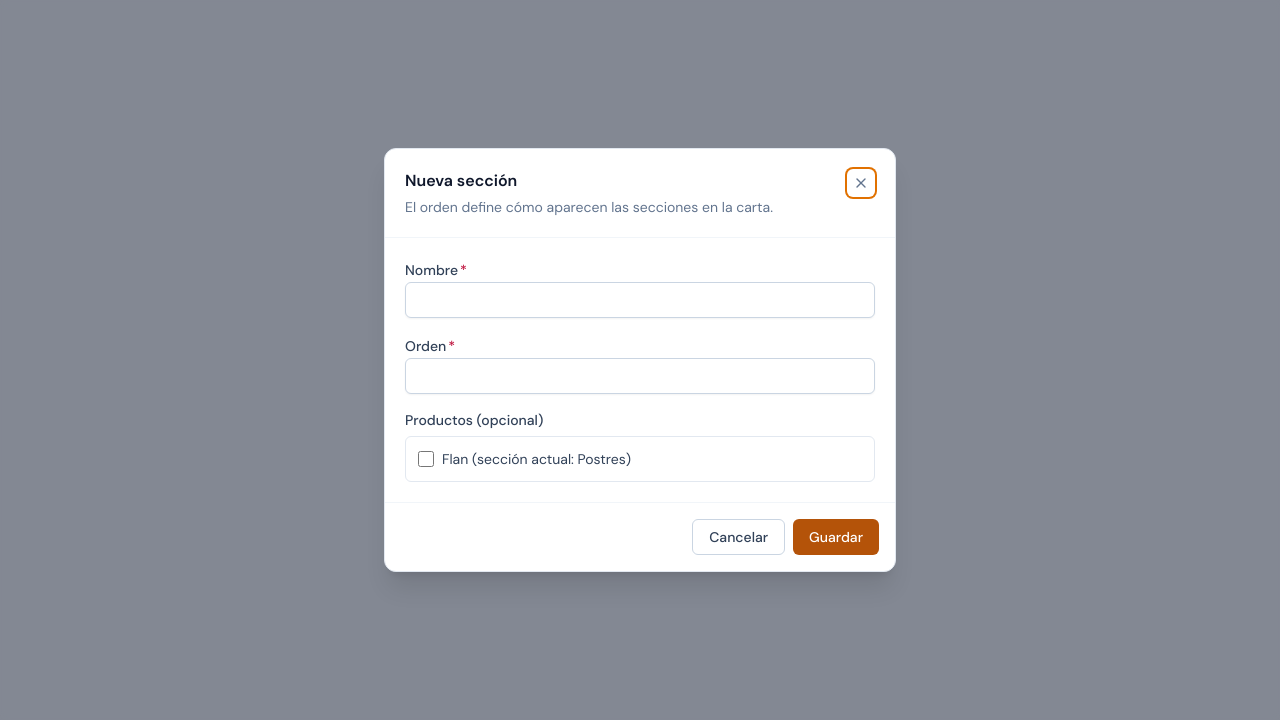
Test case: SeccionFormDialog: errores del servidor › muestra el 409 de posición ocupada bajo el campo orden (CA 6)
This screenshot has width=1280, height=720.
In the field labelled "Nombre*": coordinates (640, 300) [405, 282, 875, 318], type "Entradas"
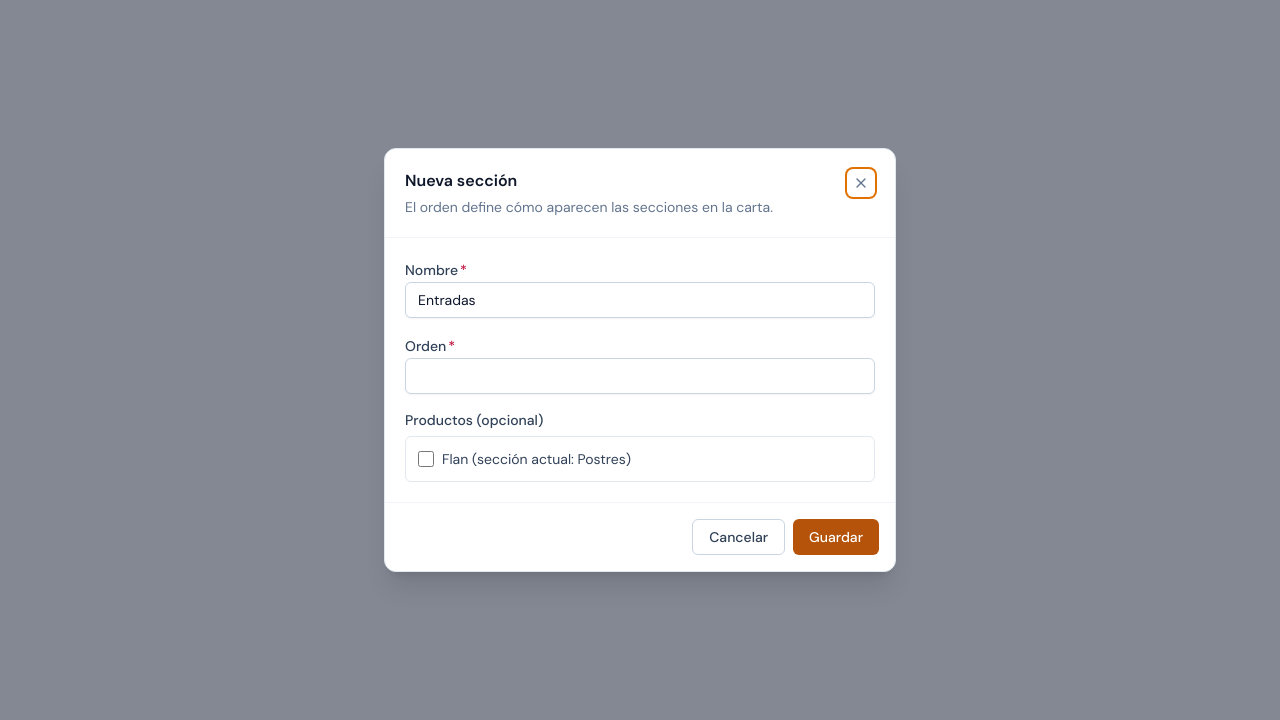
In the field labelled "Orden*": coordinates (640, 376) [405, 358, 875, 394], type "1"
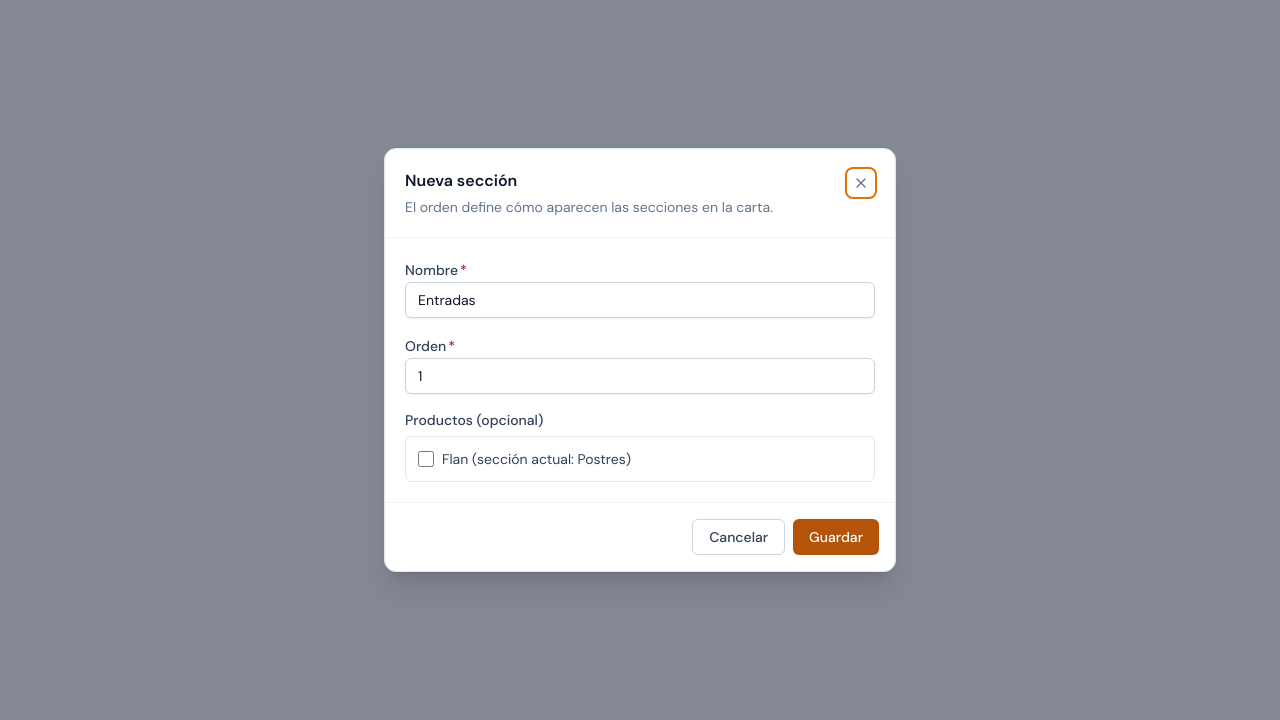
Click the button "Guardar": coordinates (836, 537) [793, 519, 879, 555]
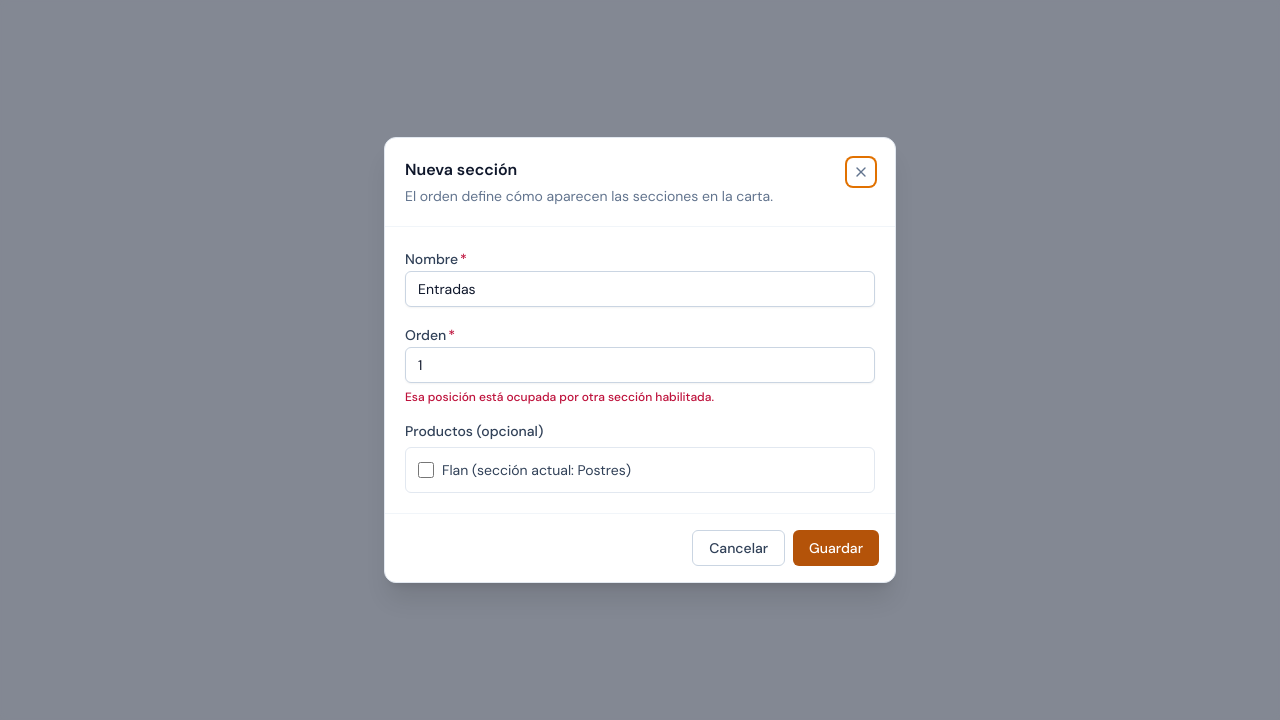
Check: the text "Esa posición está ocupada por otra sección habilitada." is shown, box [405, 389, 714, 405]
